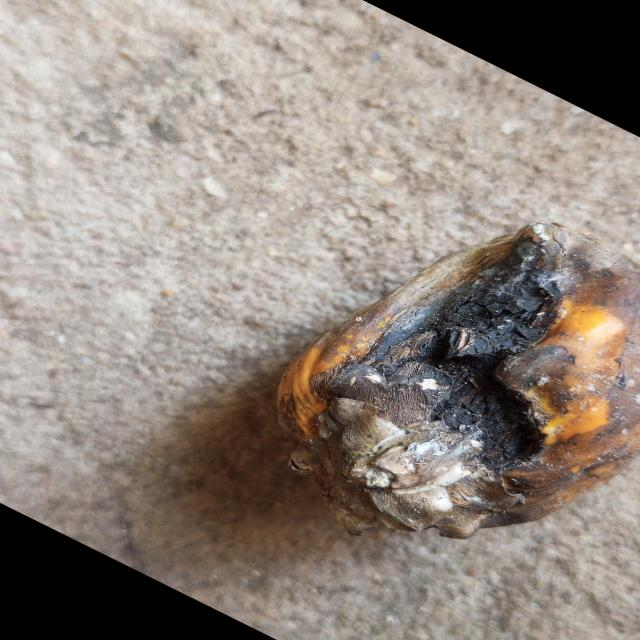damaged: (271, 227, 640, 540)
